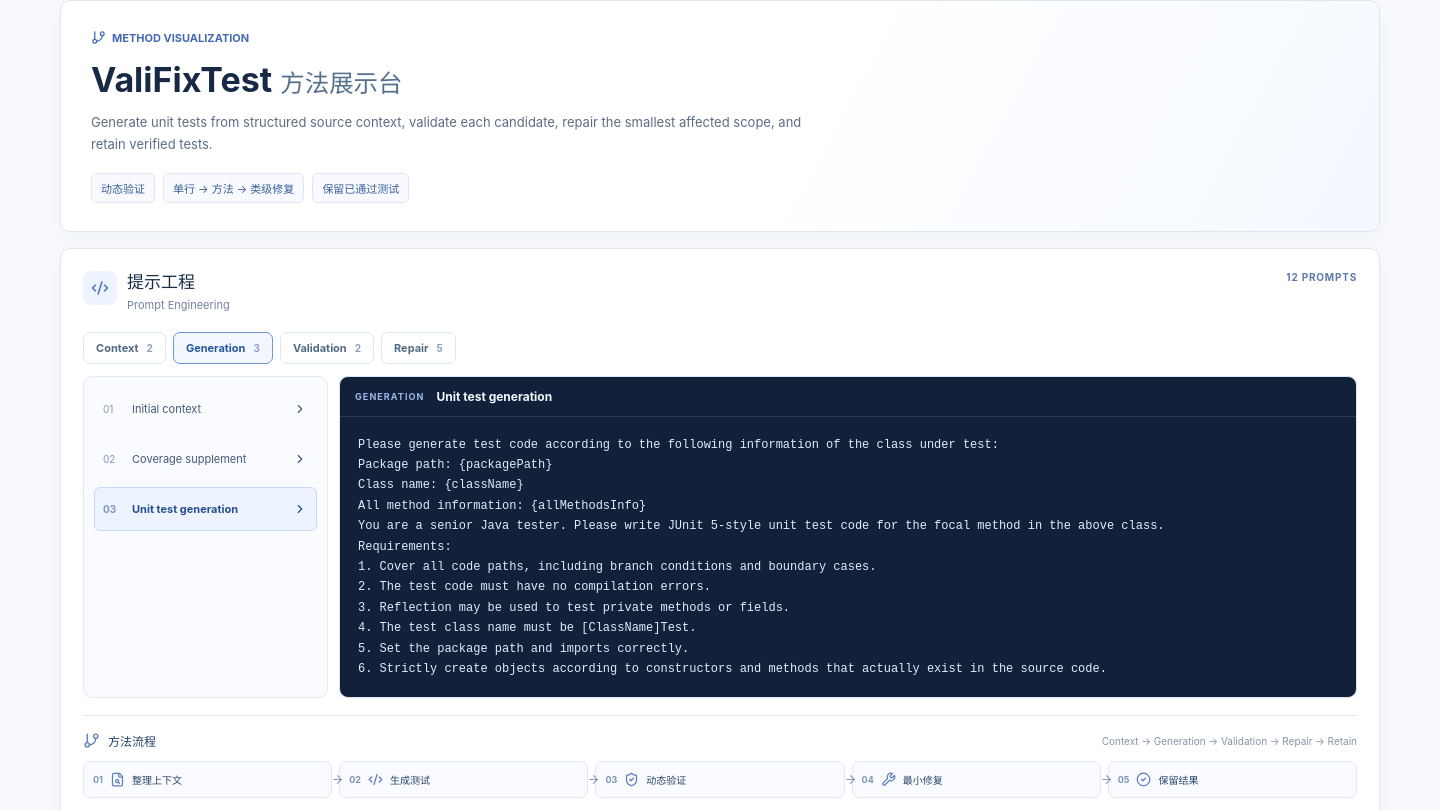
it: ValiFixTest method showcase › shows all prompt categories and switches the complete English template
Click the button "Validation 2" at [327, 348], box [280,332,374,364]
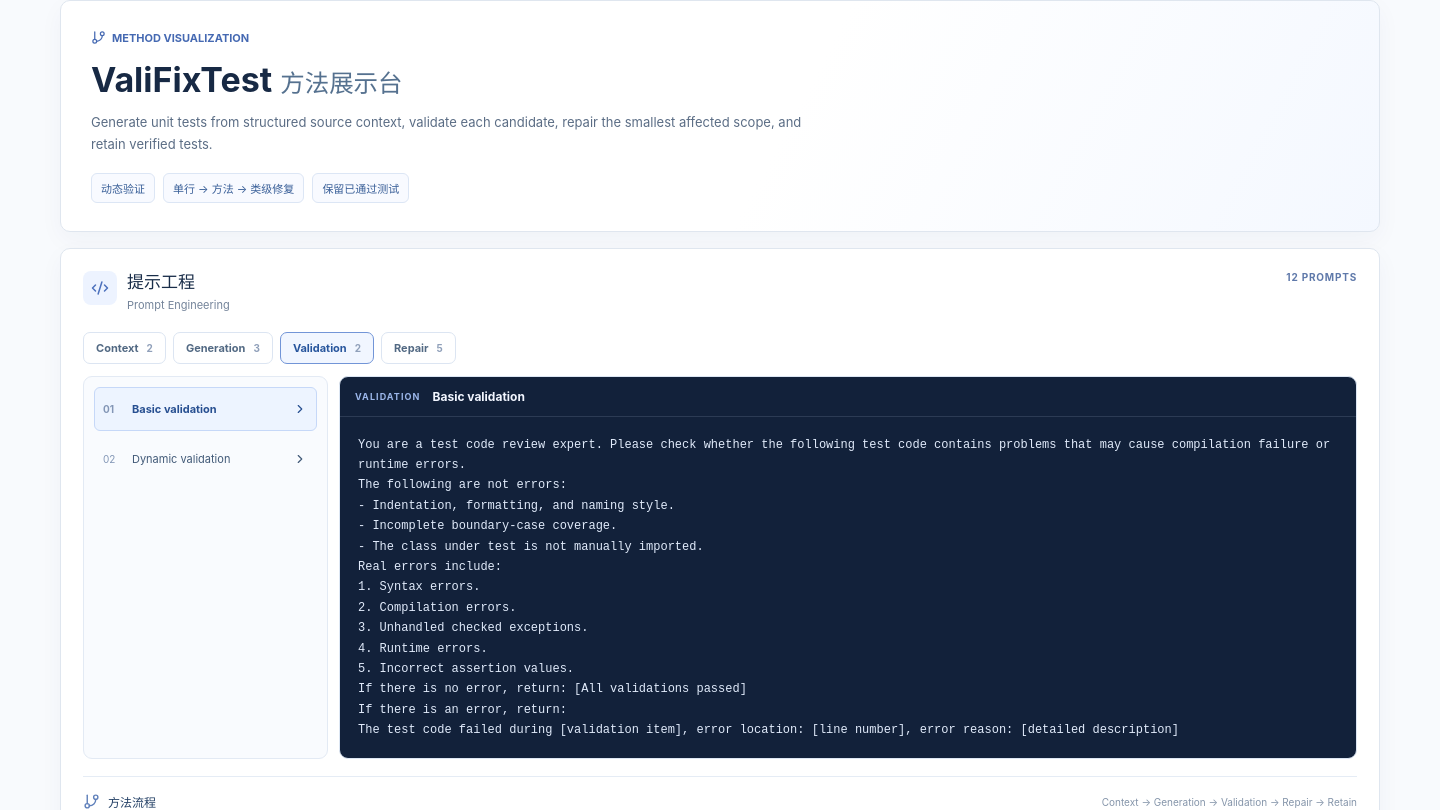
Click the button "02 Dynamic validation" at [206, 459], box [94,437,317,481]
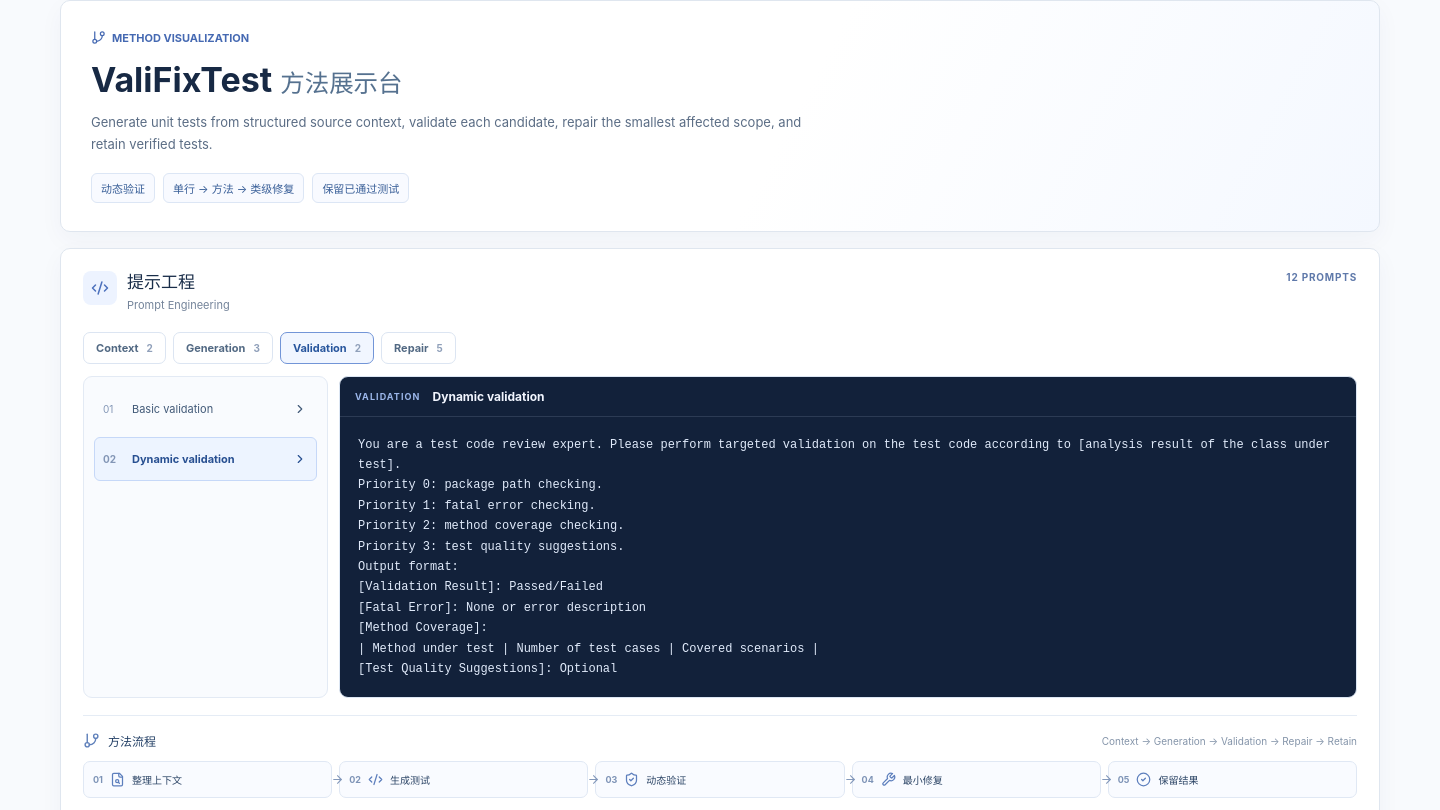
Expected: the text "整理上下文" is shown, [132,772,182,787]
Now the text "Priority 0: package path checking." is shown, box [358,438,1337,676]
Now the text "[Test Quality Suggestions]: Optional" is shown, box [358,438,1337,676]
